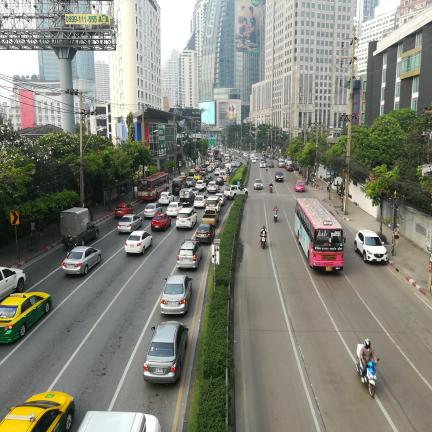bus: (294, 198, 345, 271), (137, 172, 169, 200)
car: (143, 321, 188, 383), (160, 274, 192, 314), (62, 246, 101, 275), (354, 230, 388, 262), (0, 267, 26, 299), (177, 239, 202, 268), (125, 231, 152, 253), (117, 215, 142, 233), (176, 208, 197, 229), (195, 223, 216, 243), (223, 184, 248, 199), (151, 213, 171, 231), (201, 207, 219, 226), (114, 203, 134, 218), (143, 203, 163, 218), (179, 188, 195, 206), (206, 196, 221, 212), (166, 202, 183, 216), (159, 191, 174, 205), (194, 194, 207, 207), (215, 192, 225, 206), (207, 181, 219, 192), (195, 180, 207, 190), (186, 176, 196, 187), (190, 186, 198, 199), (203, 176, 213, 186), (254, 179, 263, 189), (215, 177, 225, 185), (275, 171, 283, 181), (188, 168, 195, 177), (194, 173, 202, 180), (179, 172, 187, 178), (152, 204, 155, 205), (152, 227, 153, 230), (194, 173, 195, 176), (160, 207, 161, 209), (11, 429, 13, 430), (0, 428, 1, 430), (133, 230, 134, 231), (158, 204, 159, 205), (134, 230, 134, 230)
human: (359, 339, 377, 382), (38, 219, 45, 239), (394, 224, 400, 247), (260, 226, 267, 243), (30, 222, 35, 237), (273, 205, 278, 213), (326, 182, 329, 192), (269, 181, 273, 187)
motorbike: (363, 362, 376, 397), (356, 359, 362, 377), (261, 235, 267, 249), (68, 242, 77, 251), (274, 210, 278, 222), (305, 179, 309, 186), (357, 348, 360, 356), (269, 186, 272, 193), (358, 344, 362, 347), (377, 358, 379, 361), (364, 359, 365, 359)
pickup: (223, 185, 248, 199), (202, 209, 219, 226)
taxi: (0, 391, 75, 432), (0, 292, 52, 342), (294, 180, 305, 192), (194, 173, 202, 180), (188, 168, 195, 176)
truck: (60, 207, 99, 246), (179, 188, 195, 205)
van: (78, 411, 161, 432), (171, 177, 187, 195), (172, 178, 186, 195), (219, 169, 227, 178)
